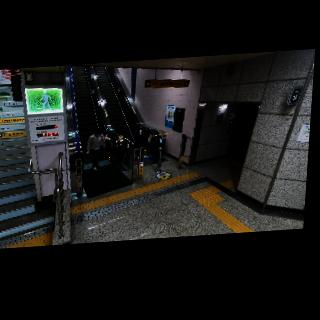normal: (86, 126, 114, 173)
